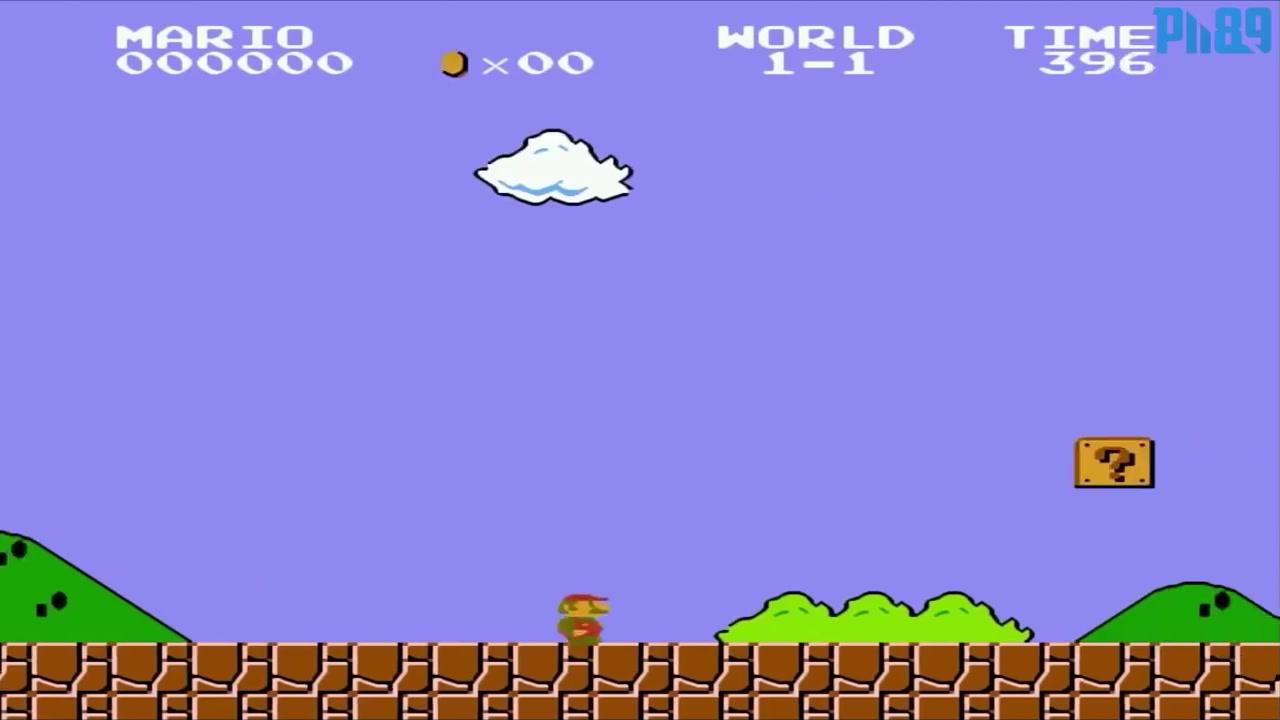mario: (549, 583, 611, 653)
